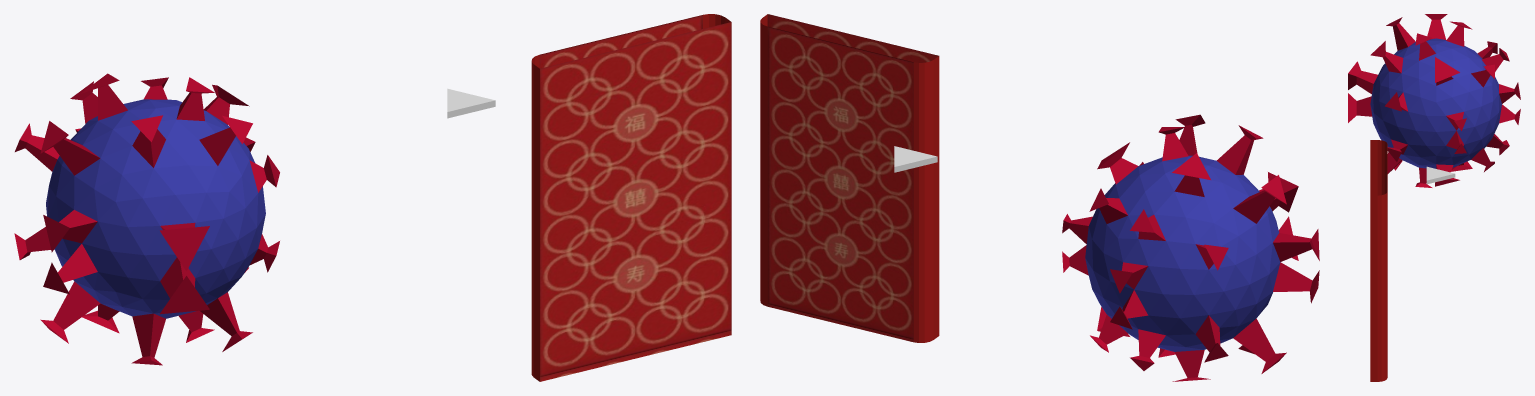
File: Amplop.fbx
The picture shows the model from 3 angles, left to right: view 1: azimuth 30°, elevation 25°; view 2: azimuth 150°, elevation 25°; view 3: azimuth 270°, elevation 25°; orthographic projection. The views are drawn at different scales.
Visible parts, largest first — view 1: Cube, Icosphere, Circle; view 2: Cube, Icosphere, Circle; view 3: Icosphere, Cube, Circle.
Part boxes in pixels (bbox=[...]): Cube: bbox=[531, 14, 731, 381]; Icosphere: bbox=[14, 73, 279, 365]; Circle: bbox=[447, 88, 495, 118]; Cube: bbox=[760, 14, 939, 342]; Icosphere: bbox=[1062, 114, 1319, 381]; Circle: bbox=[894, 146, 937, 172]; Icosphere: bbox=[1348, 14, 1520, 187]; Cube: bbox=[1370, 140, 1387, 381]; Circle: bbox=[1426, 166, 1455, 184].
Bounding box in the file's own units: 677 × 339 × 263.
